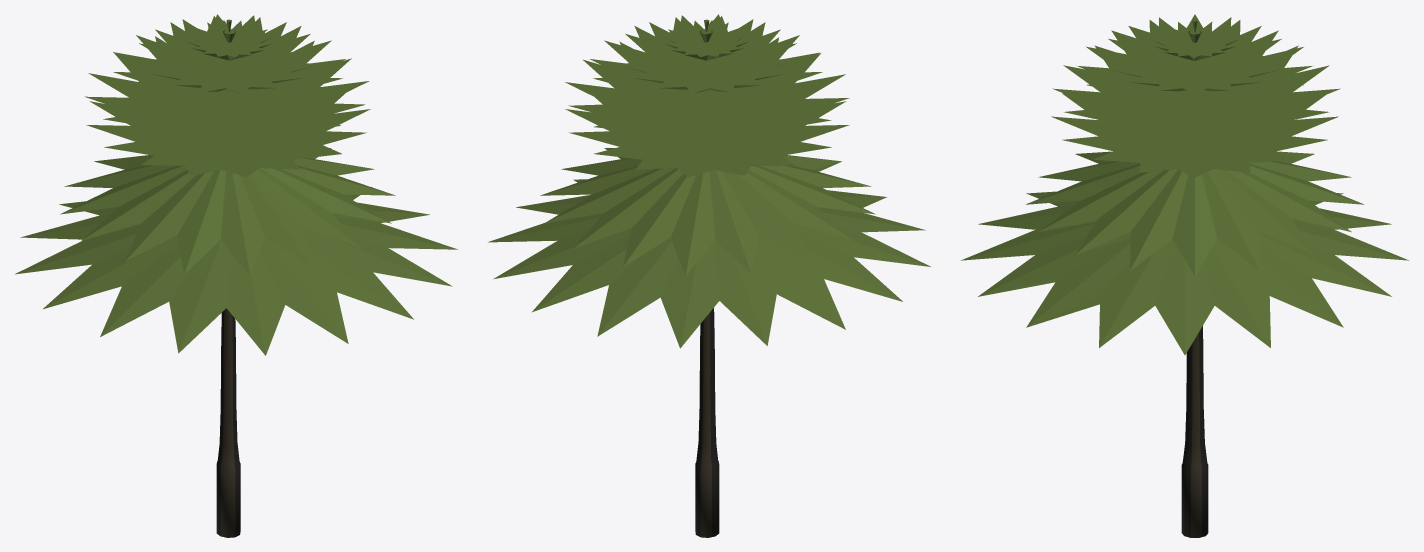
File: PinoGigante.fbx
3 views of the same model, side by side, from view 1: azimuth 30°, elevation 25°; view 2: azimuth 150°, elevation 25°; view 3: azimuth 270°, elevation 25° (orthographic).
Visible parts, largest first — view 1: Cono, Tronco; view 2: Cono, Tronco; view 3: Cono, Tronco.
Part boxes in pixels (x1,y1,x2,y2): Cono: [15, 14, 457, 355]; Tronco: [216, 308, 240, 537]; Cono: [488, 14, 930, 348]; Tronco: [695, 308, 719, 537]; Cono: [961, 14, 1408, 354]; Tronco: [1181, 326, 1208, 537].
Size of the model in its own units: 17.4 by 21.9 by 17.4.
